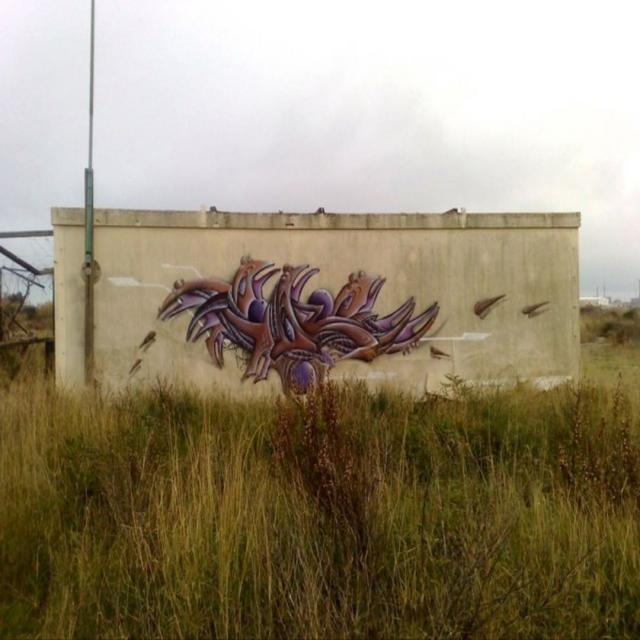nonspitting: (155, 253, 437, 393)
